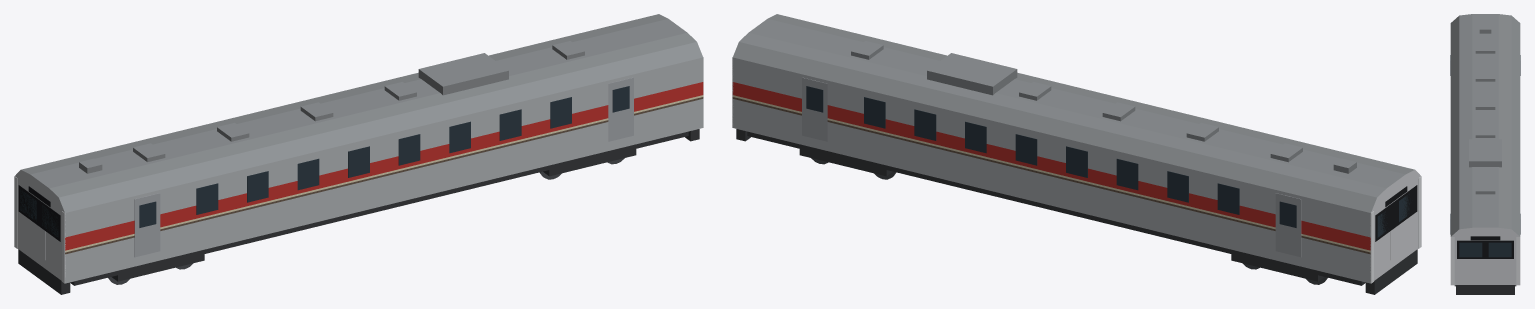
The model's file is kiha54.glb.
3 views of the same model, side by side, from view 1: azimuth 30°, elevation 25°; view 2: azimuth 150°, elevation 25°; view 3: azimuth 270°, elevation 25° (orthographic). The views are drawn at different scales.
Parts seen in each view (by area): view 1: Kiha54_Body, Kiha54_Underframe, Kiha54_WaterTank, Kiha54_Door_RR, Kiha54_Door_FR, Kiha54_CabSurround_-1, Kiha54_Skirt_-1, Kiha54_Bogie_1, Kiha54_Bogie_-1, Kiha54_Window_00R, Kiha54_Window_02R, Kiha54_Window_04R (+5 smaller); view 2: Kiha54_Body, Kiha54_Underframe, Kiha54_WaterTank, Kiha54_Door_RL, Kiha54_Door_FL, Kiha54_CabSurround_-1, Kiha54_Skirt_-1, Kiha54_Bogie_1, Kiha54_Bogie_-1, Kiha54_Window_00L, Kiha54_Window_02L, Kiha54_Window_04L (+5 smaller); view 3: Kiha54_Body, Kiha54_WaterTank, Kiha54_Skirt_1, Kiha54_CabSurround_1, Kiha54_CabGlassL_1, Kiha54_CabGlassR_1, Kiha54_Gangway_1, Kiha54_FRP_1_-1, Kiha54_FRP_1_1, Kiha54_Vent_0, Kiha54_Vent_5, Kiha54_Vent_1 (+4 smaller).
Boxes of the visible parts, x1=… form: Kiha54_Body: x1=15, y1=14, x2=703, y2=283; Kiha54_Underframe: x1=70, y1=131, x2=688, y2=285; Kiha54_WaterTank: x1=418, y1=53, x2=508, y2=95; Kiha54_Door_RR: x1=134, y1=193, x2=160, y2=257; Kiha54_Door_FR: x1=608, y1=77, x2=633, y2=141; Kiha54_CabSurround_-1: x1=18, y1=185, x2=60, y2=241; Kiha54_Skirt_-1: x1=18, y1=249, x2=70, y2=294; Kiha54_Bogie_1: x1=543, y1=149, x2=636, y2=176; Kiha54_Bogie_-1: x1=112, y1=254, x2=204, y2=281; Kiha54_Window_00R: x1=196, y1=183, x2=218, y2=214; Kiha54_Window_02R: x1=297, y1=158, x2=319, y2=190; Kiha54_Window_04R: x1=398, y1=134, x2=420, y2=165; Kiha54_Body: x1=732, y1=14, x2=1420, y2=283; Kiha54_Underframe: x1=747, y1=131, x2=1365, y2=285; Kiha54_WaterTank: x1=927, y1=53, x2=1017, y2=95; Kiha54_Door_RL: x1=1275, y1=193, x2=1301, y2=257; Kiha54_Door_FL: x1=802, y1=77, x2=827, y2=141; Kiha54_CabSurround_-1: x1=1375, y1=185, x2=1417, y2=241; Kiha54_Skirt_-1: x1=1365, y1=249, x2=1417, y2=294; Kiha54_Bogie_1: x1=799, y1=149, x2=892, y2=176; Kiha54_Bogie_-1: x1=1231, y1=254, x2=1323, y2=281; Kiha54_Window_00L: x1=1217, y1=183, x2=1239, y2=214; Kiha54_Window_02L: x1=1116, y1=158, x2=1138, y2=190; Kiha54_Window_04L: x1=1015, y1=134, x2=1037, y2=165; Kiha54_Body: x1=1450, y1=14, x2=1520, y2=285; Kiha54_WaterTank: x1=1469, y1=139, x2=1501, y2=167; Kiha54_Skirt_1: x1=1456, y1=285, x2=1514, y2=294; Kiha54_CabSurround_1: x1=1457, y1=240, x2=1513, y2=258; Kiha54_CabGlassL_1: x1=1488, y1=242, x2=1511, y2=257; Kiha54_CabGlassR_1: x1=1459, y1=242, x2=1482, y2=257; Kiha54_Gangway_1: x1=1477, y1=259, x2=1493, y2=278; Kiha54_FRP_1_-1: x1=1450, y1=237, x2=1454, y2=285; Kiha54_FRP_1_1: x1=1516, y1=237, x2=1520, y2=285; Kiha54_Vent_0: x1=1475, y1=44, x2=1495, y2=53; Kiha54_Vent_5: x1=1475, y1=185, x2=1495, y2=194; Kiha54_Vent_1: x1=1475, y1=73, x2=1495, y2=81.
Bounding box in the file's own units: 21.33 × 3.88 × 2.96.
